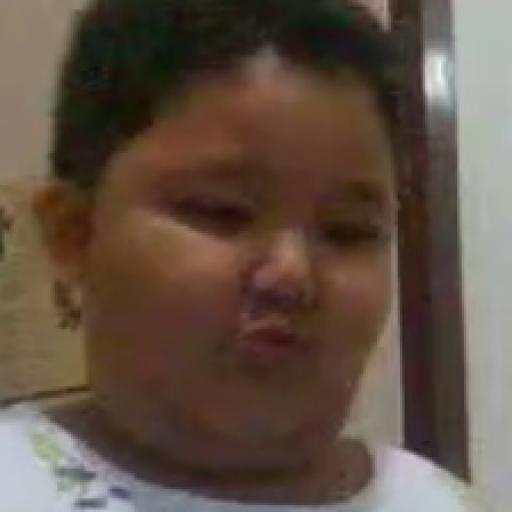Autism: (40, 5, 420, 498)
